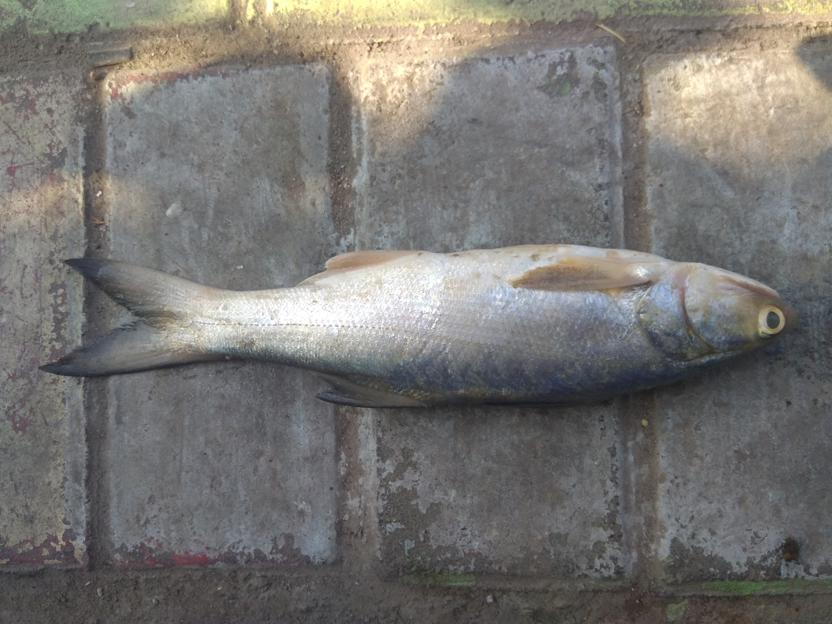Fish head: (639, 252, 789, 394)
Fish tail: (39, 256, 220, 378)
